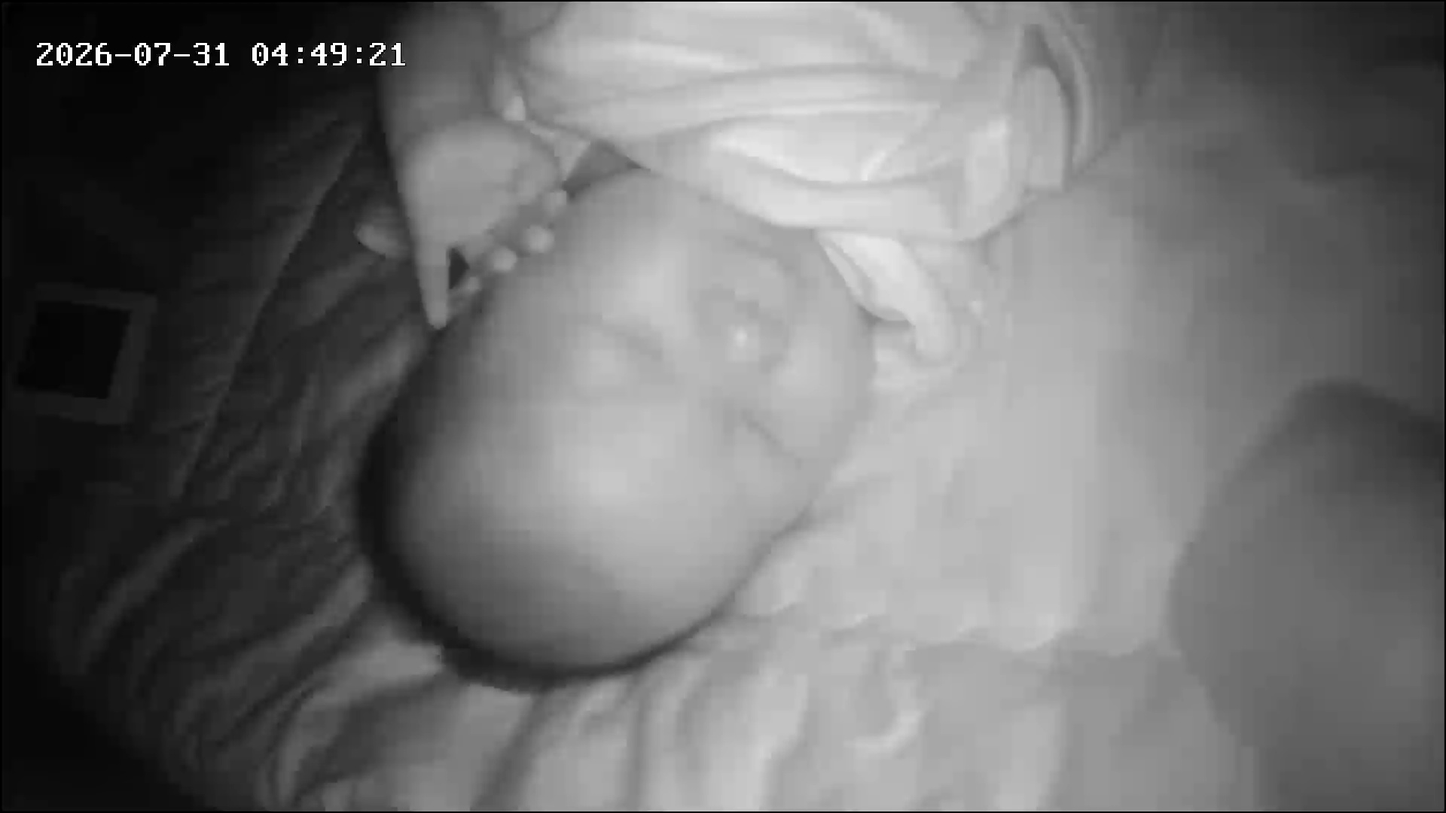baby: (332, 0, 1094, 710)
baby_face: (364, 143, 899, 685)
